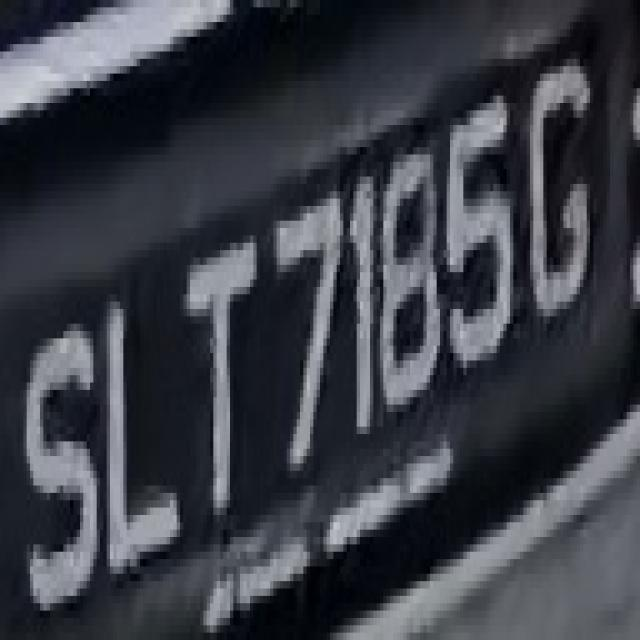1: (343, 162, 390, 463)
5: (440, 88, 517, 383)
7: (263, 177, 350, 522)
8: (370, 140, 440, 441)
G: (517, 59, 590, 353)
L: (86, 287, 186, 566)
S: (20, 309, 100, 625)
T: (163, 235, 277, 537)
